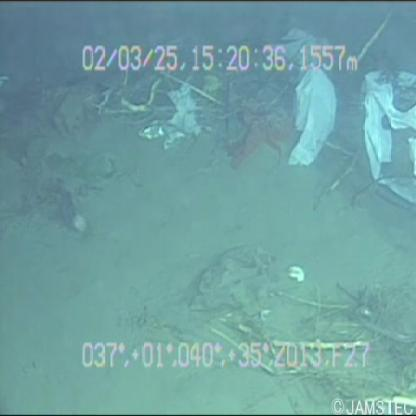Rác: (260, 20, 337, 172), (355, 46, 416, 209), (135, 81, 216, 159)
